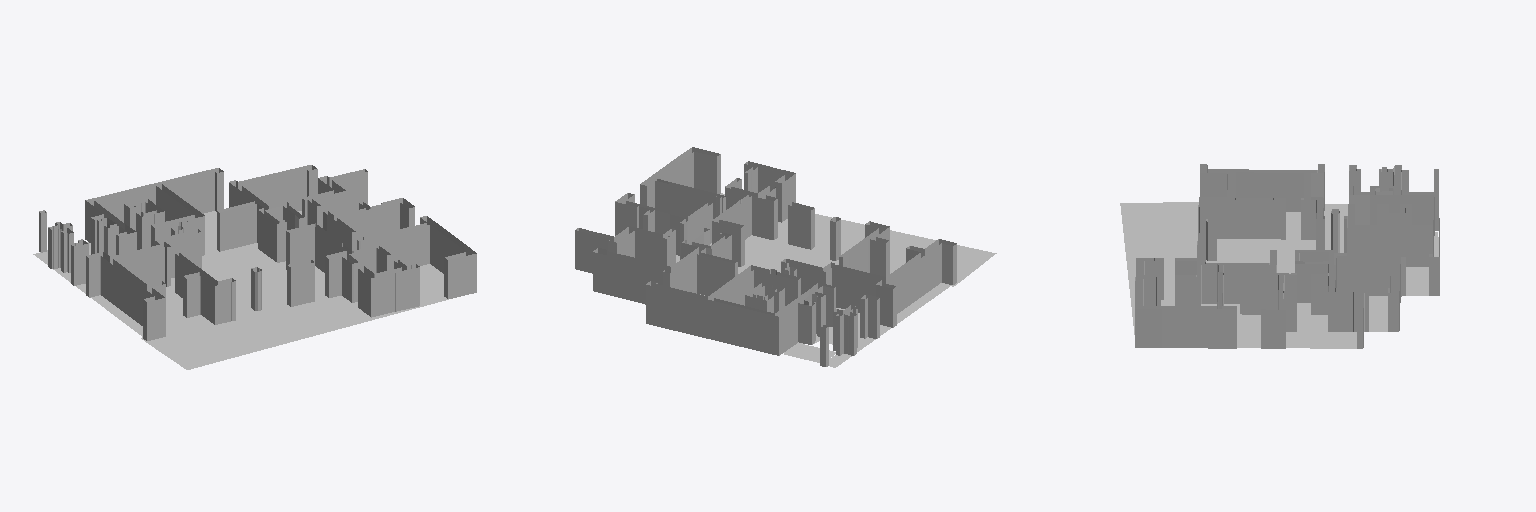
Rendered from floorplan2.obj.
3 views of the same model, side by side, from view 1: azimuth 30°, elevation 25°; view 2: azimuth 150°, elevation 25°; view 3: azimuth 270°, elevation 25° (orthographic).
Parts seen in each view (by area): view 1: Floor, Room9, Box10Wall246, Box7Wall176, Box7Wall158, Box8Wall189, Box4Wall98, Box15Wall342, Box10Wall229, Box15Wall347, Box14Wall326, Box10Wall234 (+14 smaller); view 2: Box4Wall102, Floor, Box7Wall180, Box10Wall246, Room9, Box15Wall335, Box10Wall240, Box7Wall184, Box12Wall271, Box6Wall147, Box13Wall292, Box6Wall153 (+13 smaller); view 3: Floor, Box15Wall332, Box11Wall254, Box4Wall97, Room9, Box10Wall228, Box7Wall175, Box8Wall187, Box4Wall86, Box15Wall331, Box6Wall139, Box8Wall193 (+11 smaller).
Part boxes in pixels (bbox=[...]): Floor: bbox=[33, 211, 448, 369]; Room9: bbox=[171, 243, 324, 315]; Box10Wall246: bbox=[101, 256, 153, 325]; Box7Wall176: bbox=[243, 170, 306, 211]; Box7Wall158: bbox=[220, 204, 256, 251]; Box8Wall189: bbox=[337, 202, 399, 249]; Box4Wall98: bbox=[163, 172, 214, 213]; Box15Wall342: bbox=[361, 228, 416, 269]; Box10Wall229: bbox=[114, 247, 164, 283]; Box15Wall347: bbox=[448, 254, 476, 298]; Box14Wall326: bbox=[371, 273, 394, 317]; Box10Wall234: bbox=[164, 232, 201, 277]; Box4Wall102: bbox=[646, 285, 778, 355]; Floor: bbox=[676, 193, 996, 367]; Box7Wall180: bbox=[593, 252, 663, 304]; Box10Wall246: bbox=[886, 243, 941, 313]; Room9: bbox=[738, 236, 838, 273]; Box15Wall335: bbox=[655, 181, 715, 218]; Box10Wall240: bbox=[832, 267, 881, 312]; Box7Wall184: bbox=[697, 254, 734, 295]; Box12Wall271: bbox=[788, 205, 810, 249]; Box6Wall147: bbox=[575, 230, 609, 273]; Box13Wall292: bbox=[752, 196, 773, 239]; Box6Wall153: bbox=[635, 231, 666, 265]; Floor: bbox=[1120, 202, 1438, 348]; Box15Wall332: bbox=[1162, 309, 1236, 348]; Box11Wall254: bbox=[1207, 200, 1280, 238]; Box4Wall97: bbox=[1347, 228, 1432, 266]; Room9: bbox=[1207, 240, 1315, 273]; Box10Wall228: bbox=[1236, 172, 1303, 211]; Box7Wall175: bbox=[1337, 256, 1390, 295]; Box8Wall187: bbox=[1240, 275, 1277, 314]; Box4Wall86: bbox=[1370, 195, 1434, 224]; Box15Wall331: bbox=[1135, 309, 1161, 347]; Box6Wall139: bbox=[1328, 292, 1352, 331]; Box8Wall193: bbox=[1261, 309, 1285, 348].
Bounding box in the file's own units: 8.04 × 1 × 7.37.